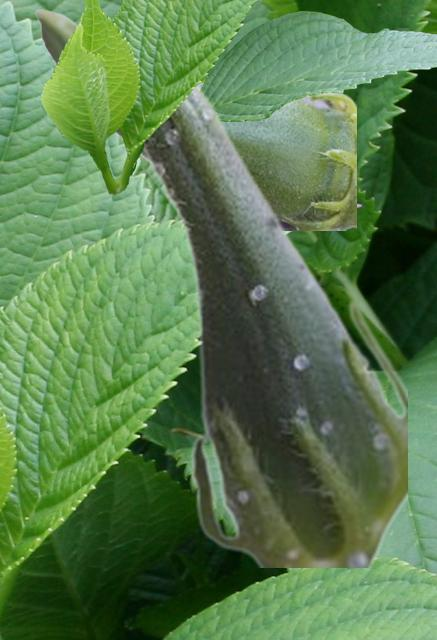okra: (119, 83, 406, 566), (34, 8, 355, 229)
